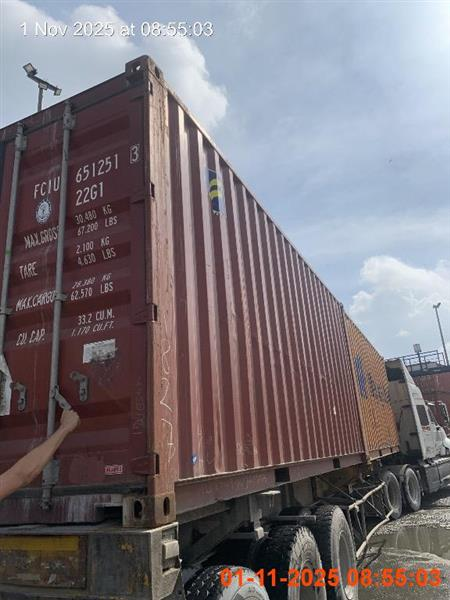broken: (0, 56, 449, 599), (0, 409, 80, 502)
